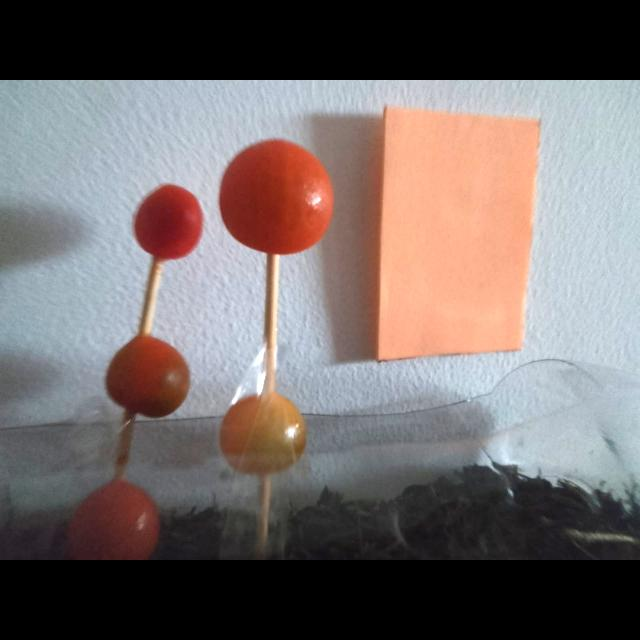card: (375, 107, 539, 361), (376, 107, 539, 361)
fruit_maturation: (219, 140, 333, 255), (220, 392, 306, 475)
fully_grown: (220, 139, 333, 255), (67, 479, 160, 560), (105, 335, 190, 417), (133, 184, 203, 260)
